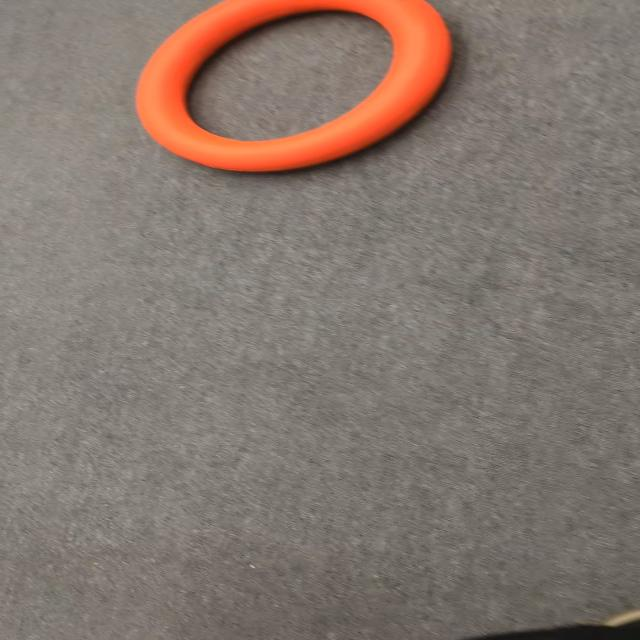note: (127, 0, 451, 176)
